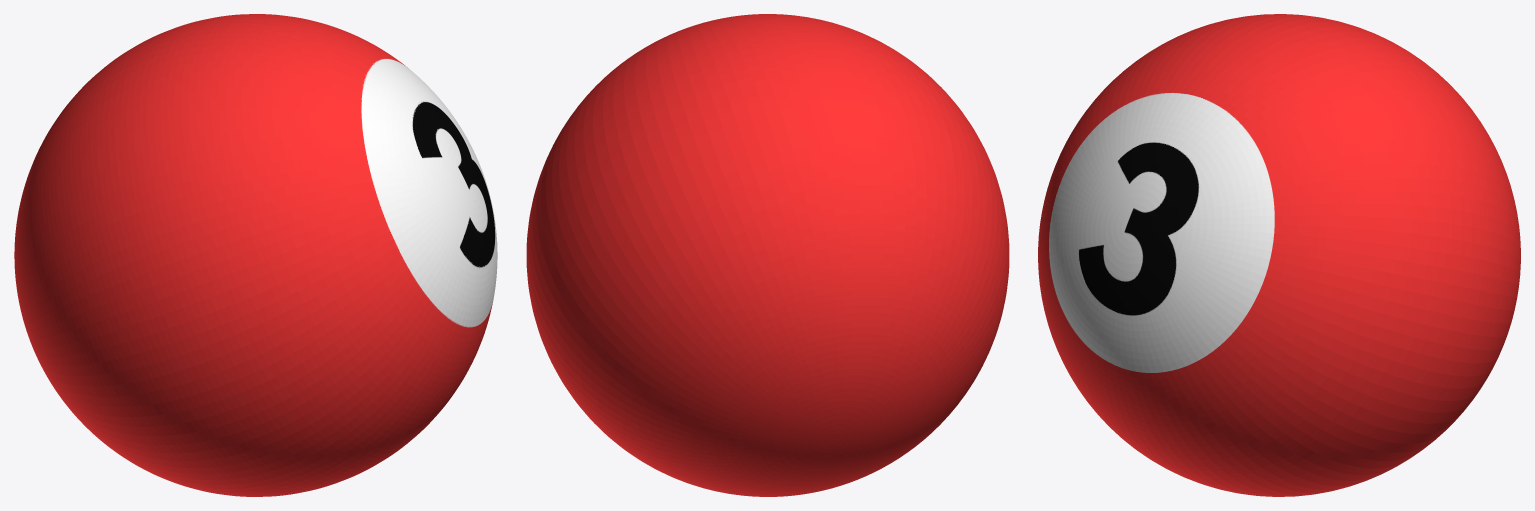
The picture shows the model from 3 angles, left to right: view 1: azimuth 30°, elevation 25°; view 2: azimuth 150°, elevation 25°; view 3: azimuth 270°, elevation 25°; orthographic projection.
Parts seen in each view (by area): view 1: Sphere; view 2: Sphere; view 3: Sphere.
Boxes of the visible parts, x1=… form: Sphere: x1=14, y1=14, x2=497, y2=496; Sphere: x1=526, y1=14, x2=1009, y2=496; Sphere: x1=1038, y1=14, x2=1520, y2=496.
Size of the model in its own units: 3.7 by 3.7 by 3.7.
Materials: 1 (1 with a texture image).
